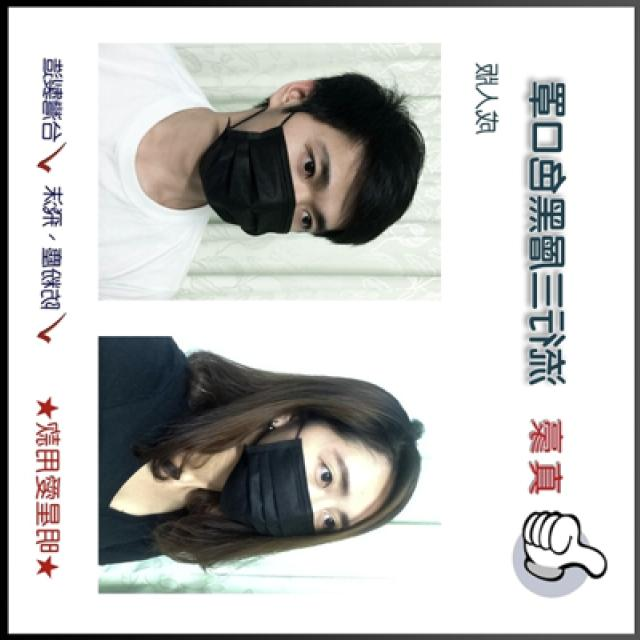mask: (200, 110, 339, 236), (221, 422, 355, 538)
